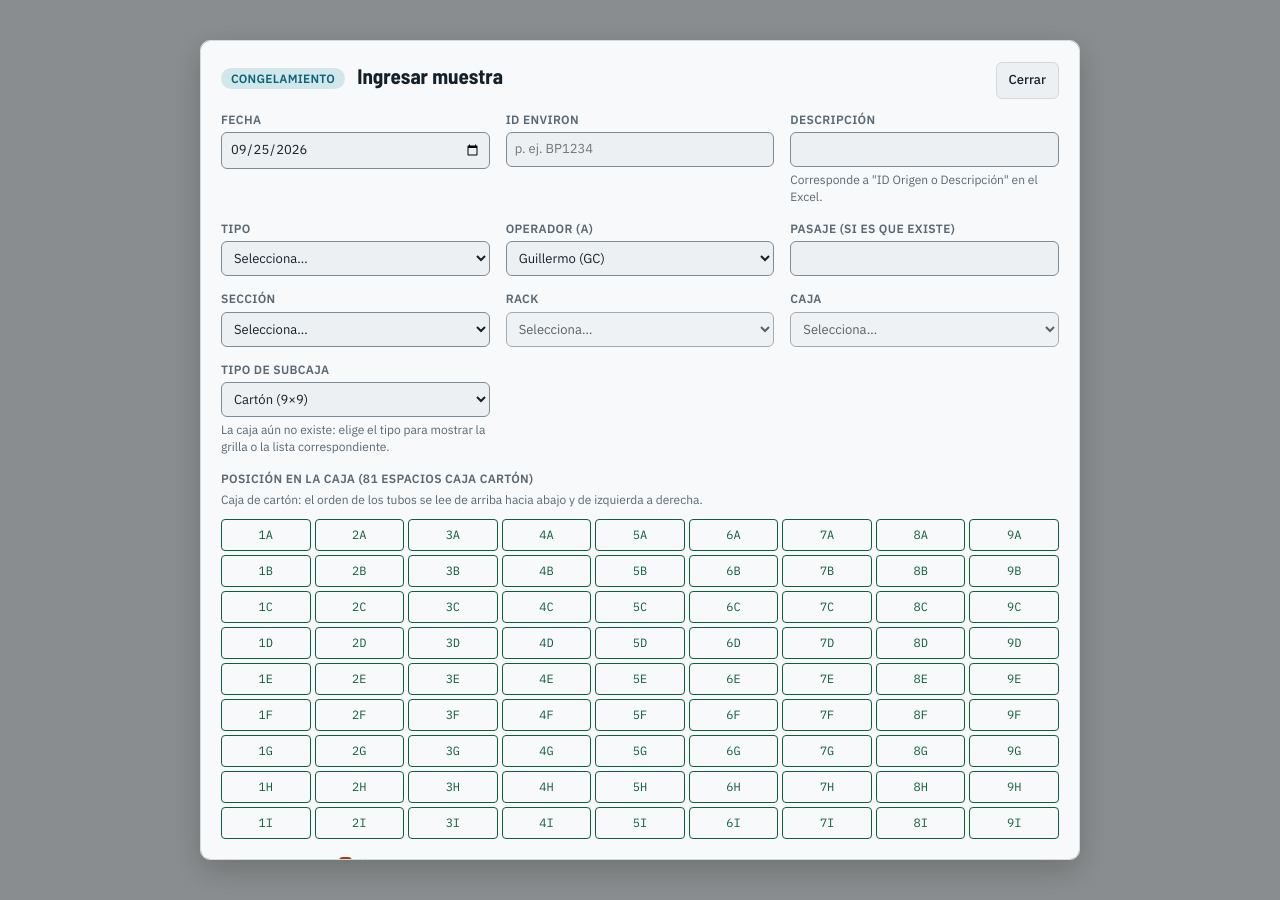
it: FreezeForm › Tipo = Otros muestra el campo para especificar y lo exige
Expected: the field labelled "especifique el tipo" is not shown
Select "Otros" in the dropdown labelled "Tipo" at (355, 259), box [221,241,490,276]
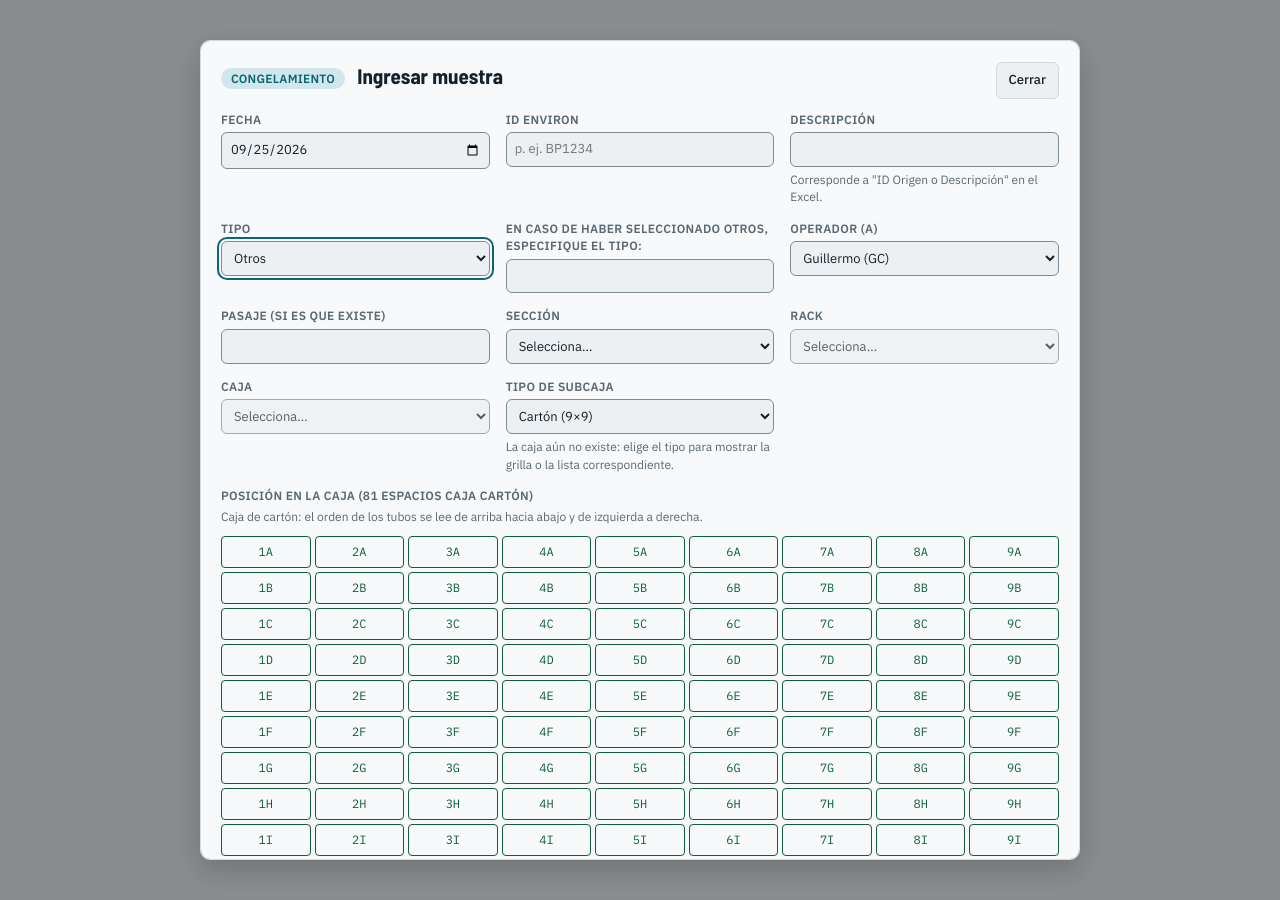
Expected: the field labelled "En caso de haber seleccionado otros, especifique el tipo:" is shown, [506,259,774,293]
Select "RNA" in the dropdown labelled "Tipo" at (355, 259), box [221,241,490,276]
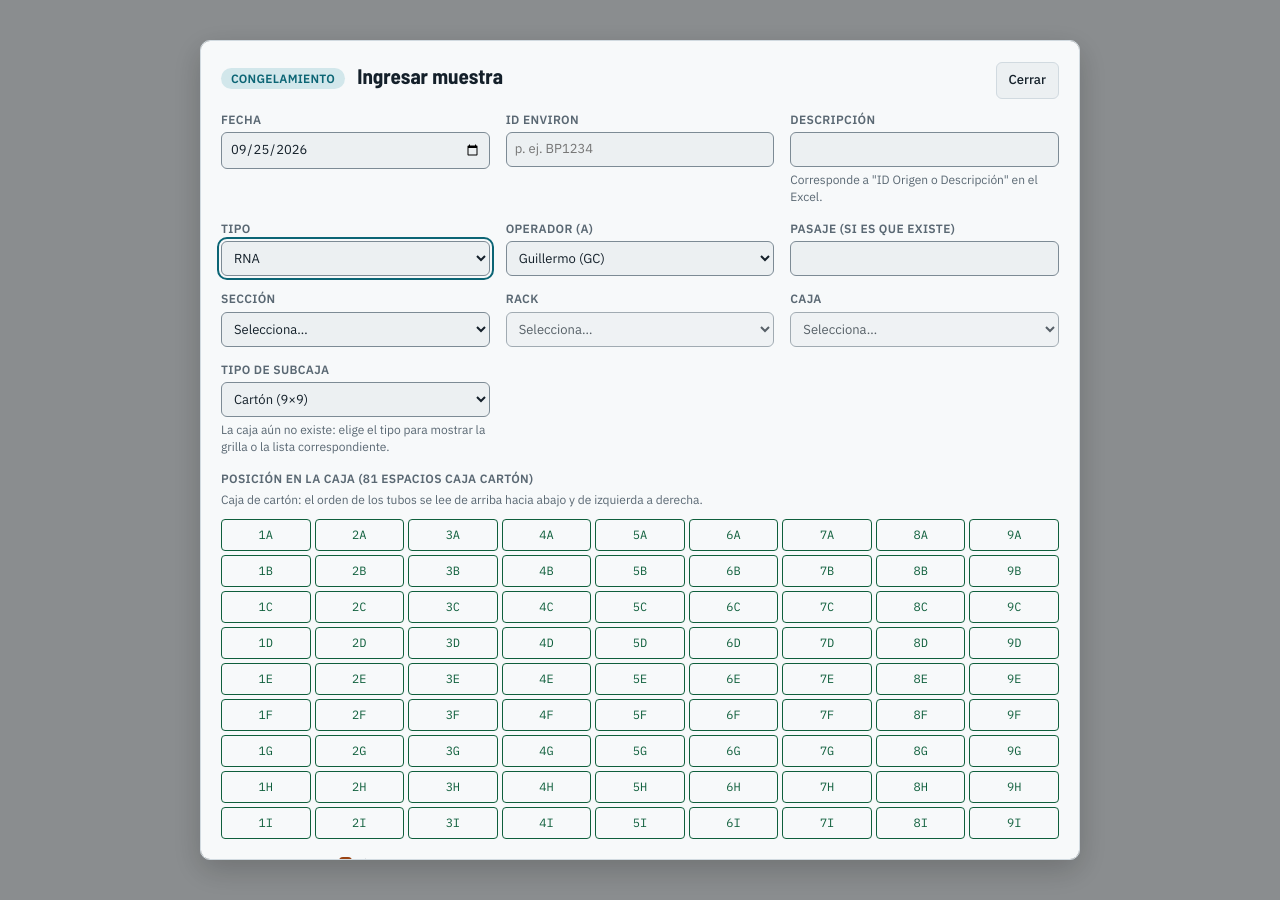
Expected: the label labelled "especifique el tipo" is gone
